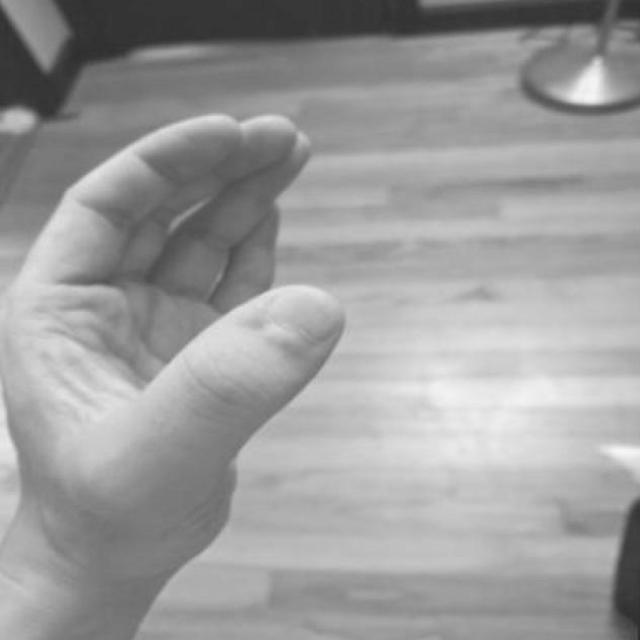C: (0, 101, 351, 595)
